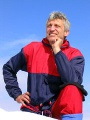male: (43, 10, 68, 47)
